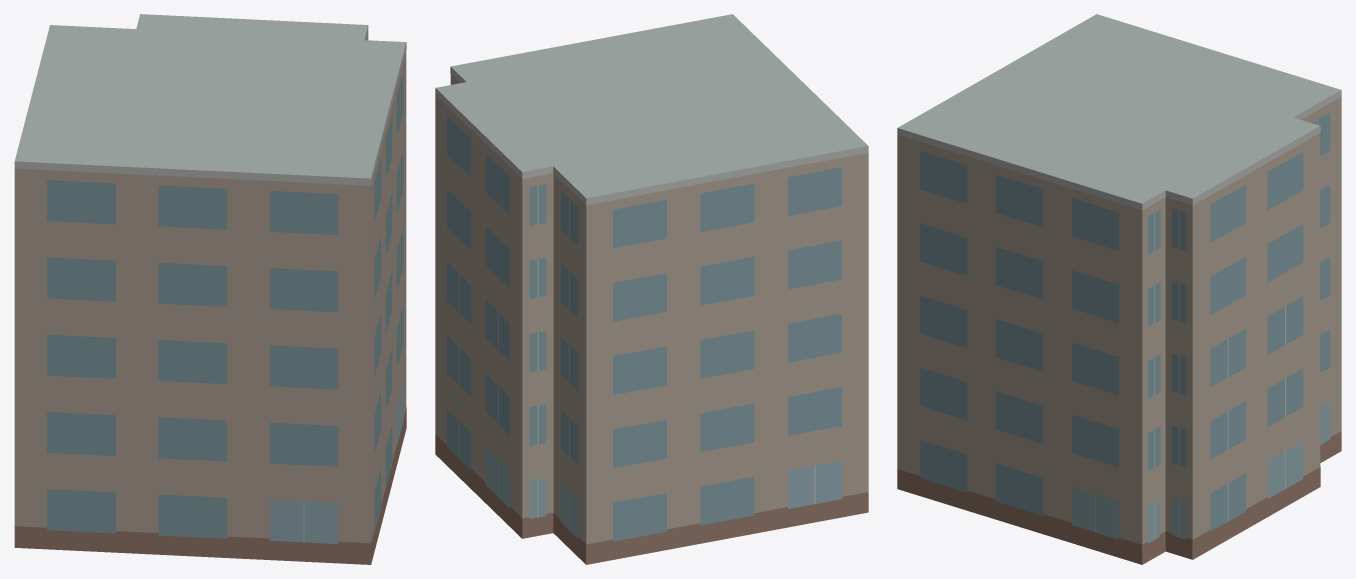
The model's file is survey-upis-32797488.glb.
The picture shows the model from 3 angles, left to right: view 1: azimuth 30°, elevation 25°; view 2: azimuth 150°, elevation 25°; view 3: azimuth 270°, elevation 25°; orthographic projection. The views are drawn at different scales.
Parts seen in each view (by area): view 1: survey-upis-32797488.tmp; view 2: survey-upis-32797488.tmp; view 3: survey-upis-32797488.tmp.
Boxes of the visible parts, x1,y1,x2,y2 form: survey-upis-32797488.tmp: (14,14,406,564); survey-upis-32797488.tmp: (435,14,868,564); survey-upis-32797488.tmp: (897,14,1341,564).
Bounding box in the file's own units: 14.78 × 13.1 × 14.62.
